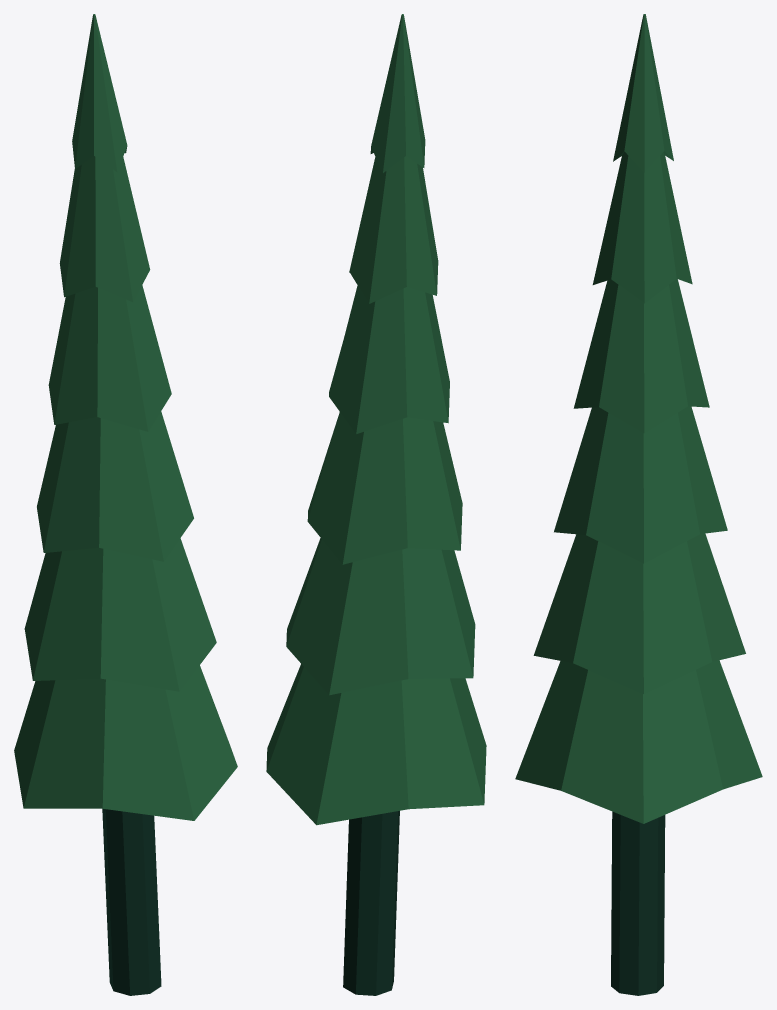
Rendered from tree_2.obj.
The picture shows the model from 3 angles, left to right: view 1: azimuth 30°, elevation 25°; view 2: azimuth 150°, elevation 25°; view 3: azimuth 270°, elevation 25°; orthographic projection. The views are drawn at different scales.
Parts seen in each view (by area): view 1: SapinHiver.015_Cylinder.034; view 2: SapinHiver.015_Cylinder.034; view 3: SapinHiver.015_Cylinder.034.
Boxes of the visible parts, x1,y1,x2,y2 form: SapinHiver.015_Cylinder.034: (14,14,237,995); SapinHiver.015_Cylinder.034: (266,14,486,995); SapinHiver.015_Cylinder.034: (515,14,762,995).
Bounding box in the file's own units: 1.13 × 5.01 × 1.18.
